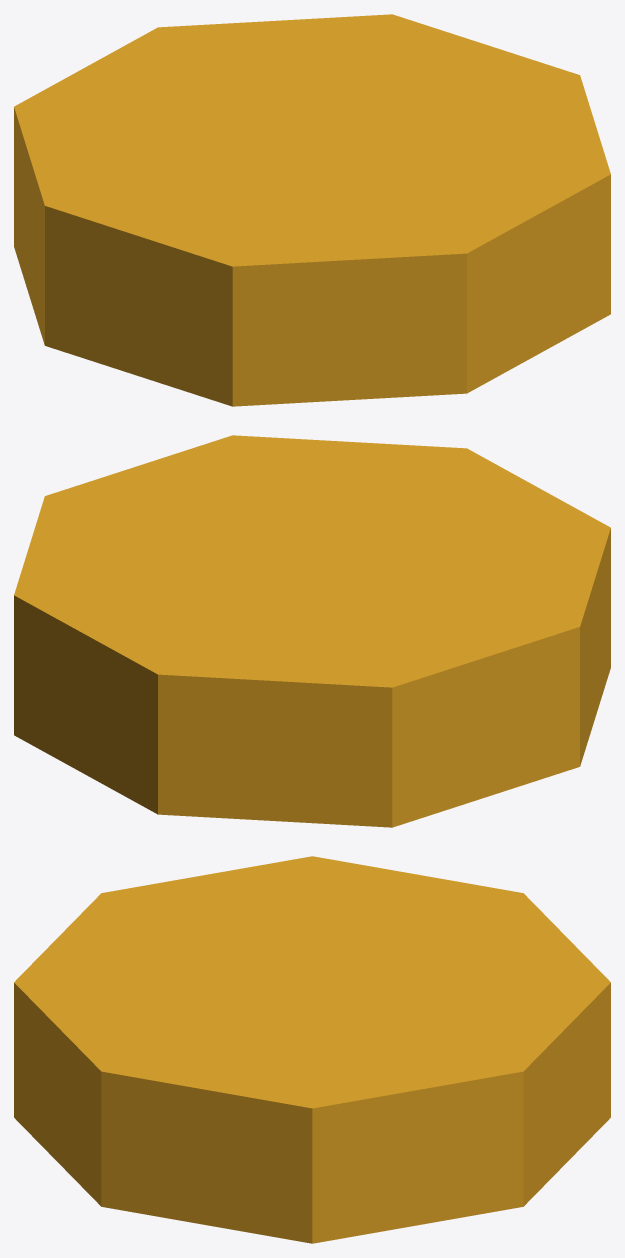
The model's file is gold_coin_single.glb.
The picture shows the model from 3 angles, top to bottom: view 1: azimuth 30°, elevation 25°; view 2: azimuth 150°, elevation 25°; view 3: azimuth 270°, elevation 25°; orthographic projection. The views are drawn at different scales.
Parts seen in each view (by area): view 1: Cylinder; view 2: Cylinder; view 3: Cylinder.
Boxes of the visible parts, <box> form: Cylinder: <box>14,14,610,406</box>; Cylinder: <box>14,435,610,827</box>; Cylinder: <box>14,856,610,1243</box>.
Bounding box in the file's own units: 0.08 × 0.02 × 0.08.
